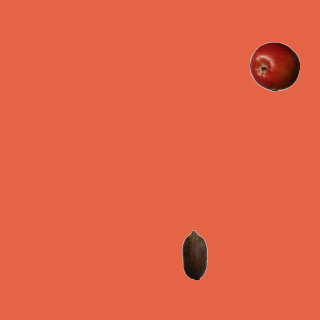Apple Braeburn: (249, 41, 299, 91)
Nut Pecan: (169, 229, 219, 279)
